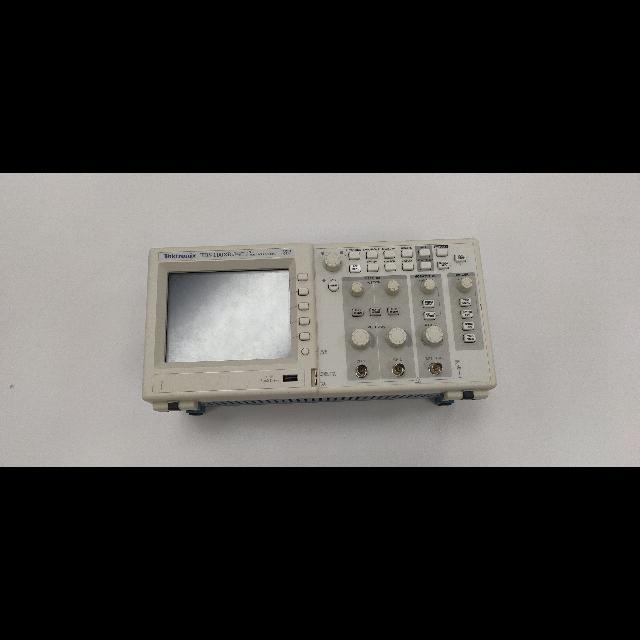Digital-Oscilloscope: (142, 238, 496, 416)
